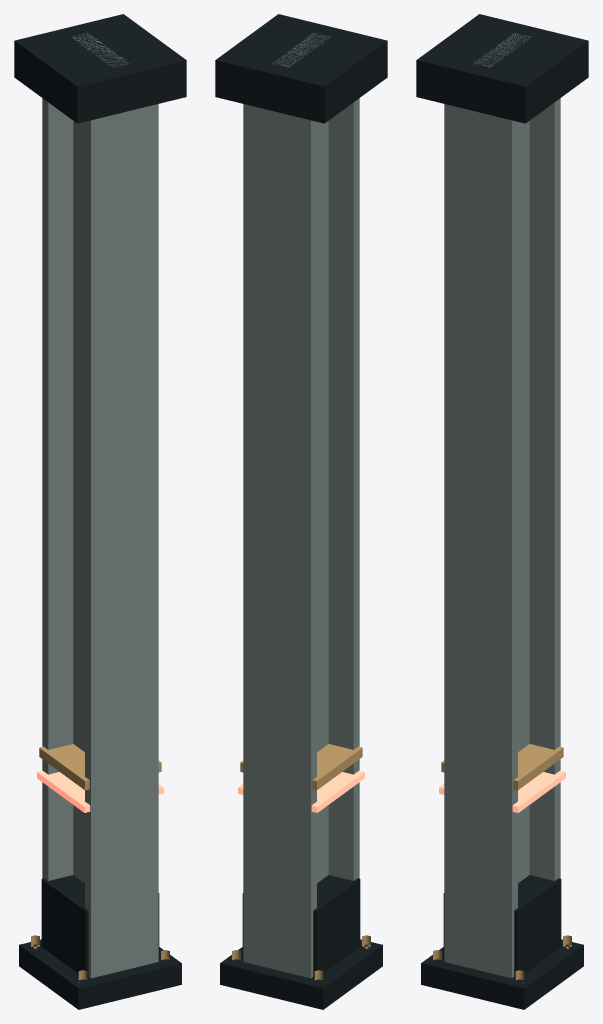
Rendered from column-6.glb.
3 views of the same model, side by side, from view 1: azimuth 30°, elevation 25°; view 2: azimuth 150°, elevation 25°; view 3: azimuth 330°, elevation 25° (orthographic).
Visible parts, largest first — view 1: column-6; view 2: column-6; view 3: column-6.
Part boxes in pixels (x1,y1,x2,y2): column-6: (14, 14, 186, 1009); column-6: (215, 14, 387, 1009); column-6: (416, 14, 588, 1009).
Size of the model in its own units: 0.74 by 6 by 0.74.
